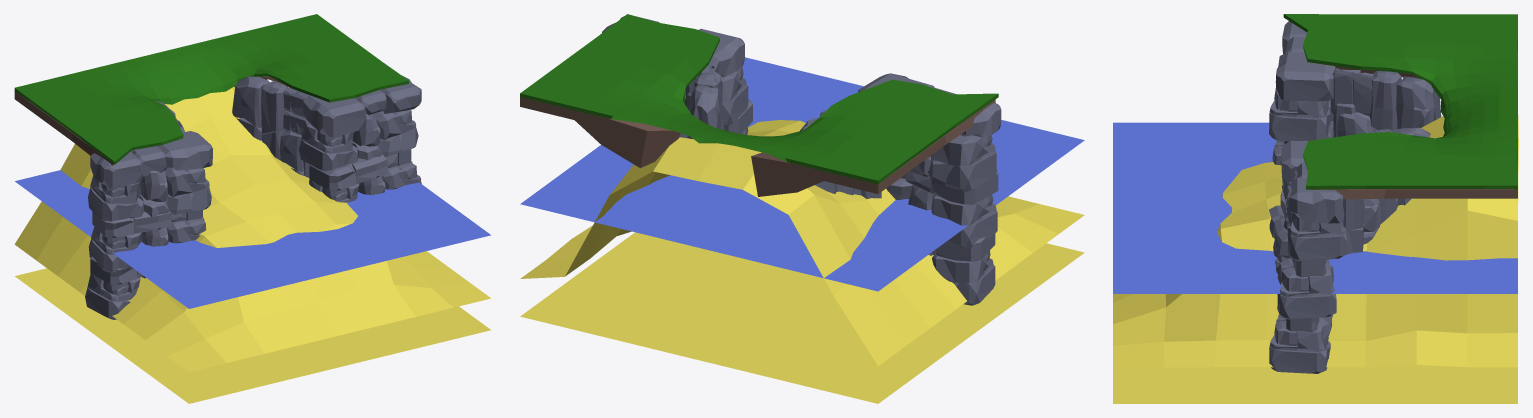
File: 08__tile.fbx
3 renders of one model, left to right at view 1: azimuth 30°, elevation 25°; view 2: azimuth 150°, elevation 25°; view 3: azimuth 270°, elevation 25°, orthographic. The views are drawn at different scales.
Parts seen in each view (by area): view 1: 08__tile; view 2: 08__tile; view 3: 08__tile.
Boxes of the visible parts, x1=… form: 08__tile: x1=14, y1=14, x2=490, y2=403; 08__tile: x1=520, y1=14, x2=1084, y2=403; 08__tile: x1=1113, y1=14, x2=1518, y2=403.
Size of the model in its own units: 213 by 119 by 200.
